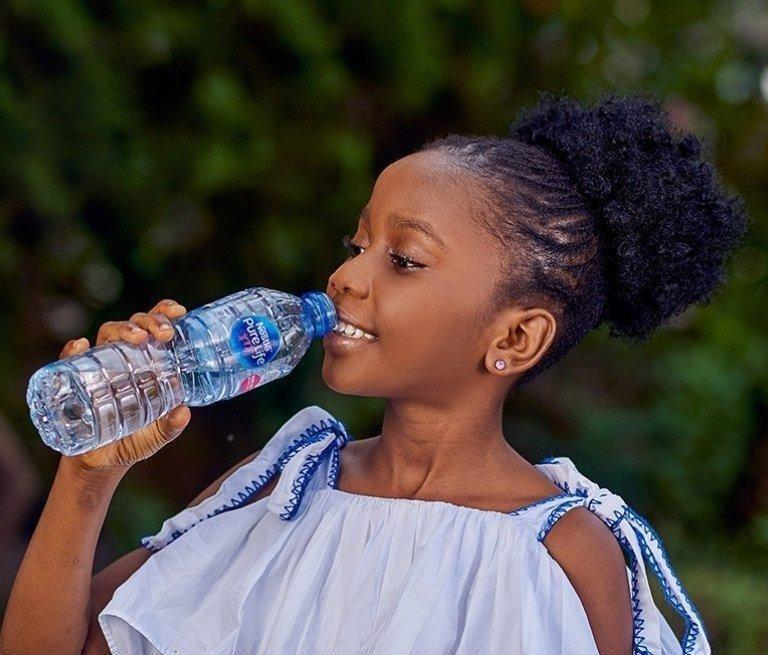bottle-plastic: (25, 286, 344, 456)
